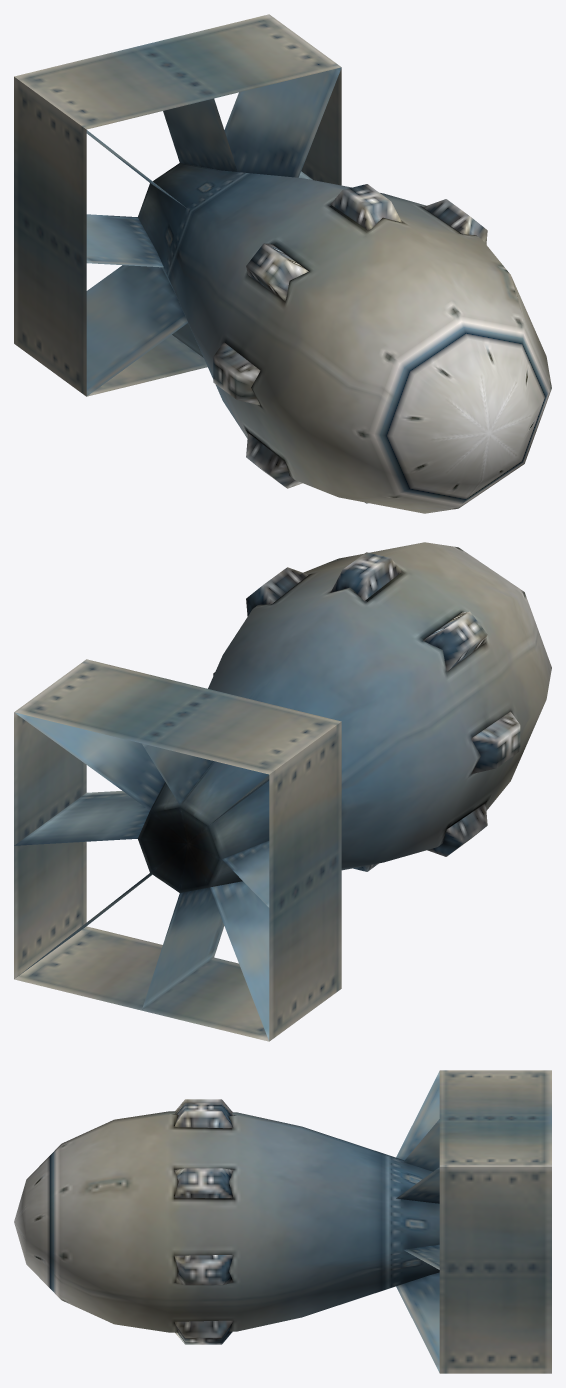
File: atom_bomb.FBX
3 renders of one model, top to bottom at view 1: azimuth 30°, elevation 25°; view 2: azimuth 150°, elevation 25°; view 3: azimuth 270°, elevation 25°, orthographic. The views are drawn at different scales.
Parts seen in each view (by area): view 1: a_bomb; view 2: a_bomb; view 3: a_bomb.
Boxes of the visible parts, box(x1,y1,x2,y2) form: a_bomb: box(14, 14, 551, 513); a_bomb: box(14, 542, 551, 1041); a_bomb: box(14, 1070, 551, 1373).
Bounding box in the file's own units: 64.18 × 64.18 × 137.
